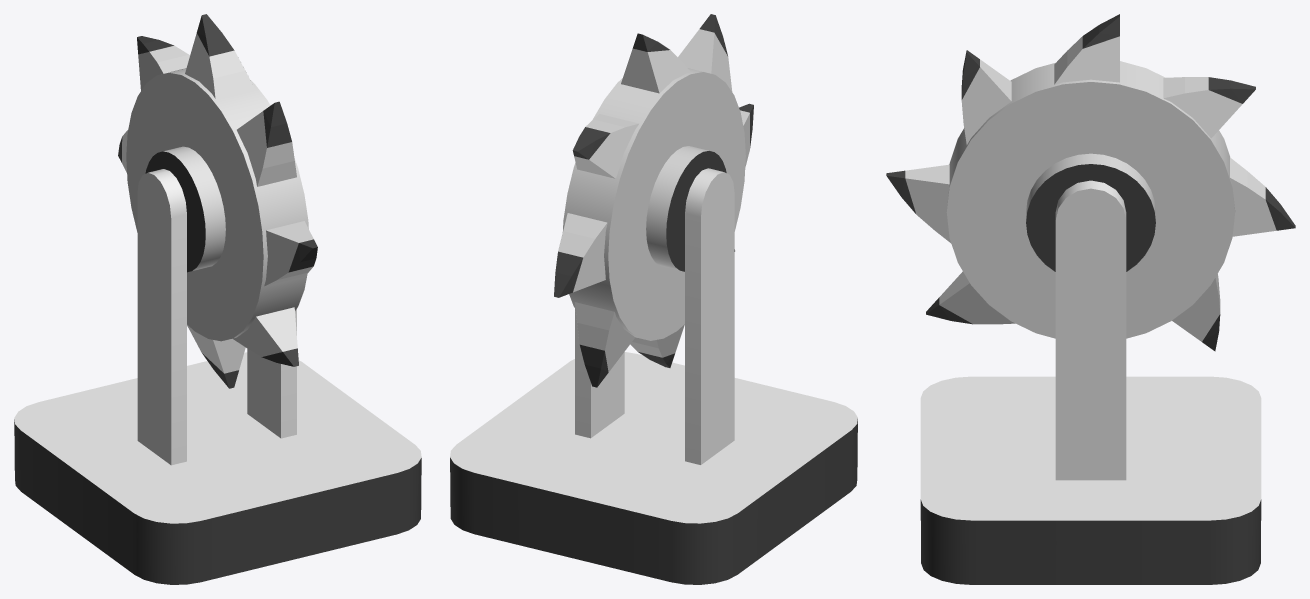
File: Saw Pad Black.fbx
The picture shows the model from 3 angles, left to right: view 1: azimuth 30°, elevation 25°; view 2: azimuth 150°, elevation 25°; view 3: azimuth 270°, elevation 25°; orthographic projection. The views are drawn at different scales.
Parts seen in each view (by area): view 1: Saw Pad Black.001, Saw Pad Black.002, Saw Pad Black, Saw Pad Black.003; view 2: Saw Pad Black.001, Saw Pad Black.002, Saw Pad Black, Saw Pad Black.003; view 3: Saw Pad Black.002, Saw Pad Black, Saw Pad Black.003, Saw Pad Black.001.
Boxes of the visible parts, bbox=[...] form: Saw Pad Black.001: bbox=[14, 169, 252, 584]; Saw Pad Black.002: bbox=[118, 14, 317, 388]; Saw Pad Black: bbox=[187, 309, 421, 547]; Saw Pad Black.003: bbox=[90, 373, 342, 569]; Saw Pad Black.001: bbox=[619, 168, 857, 584]; Saw Pad Black.002: bbox=[554, 14, 753, 387]; Saw Pad Black: bbox=[450, 309, 684, 547]; Saw Pad Black.003: bbox=[529, 372, 781, 569]; Saw Pad Black.002: bbox=[886, 14, 1295, 351]; Saw Pad Black: bbox=[920, 180, 1261, 584]; Saw Pad Black.003: bbox=[920, 424, 1261, 470]; Saw Pad Black.001: bbox=[920, 376, 1261, 424].
Bounding box in the file's own units: 138 × 224 × 166.
